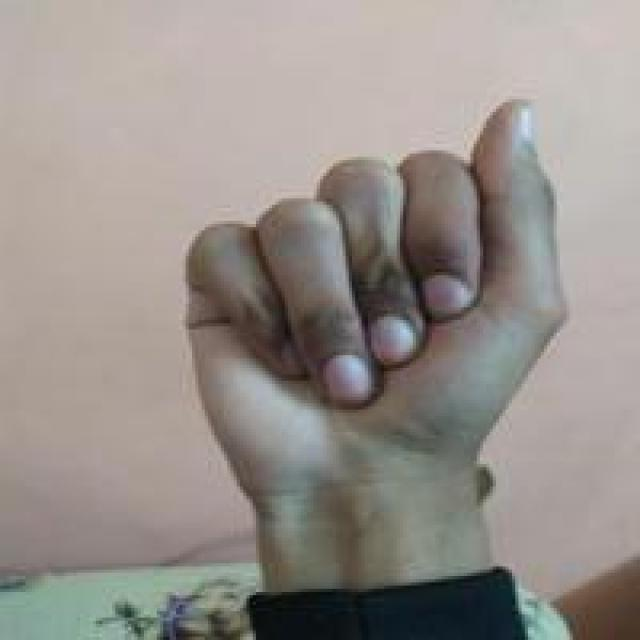A: (179, 94, 563, 469)
